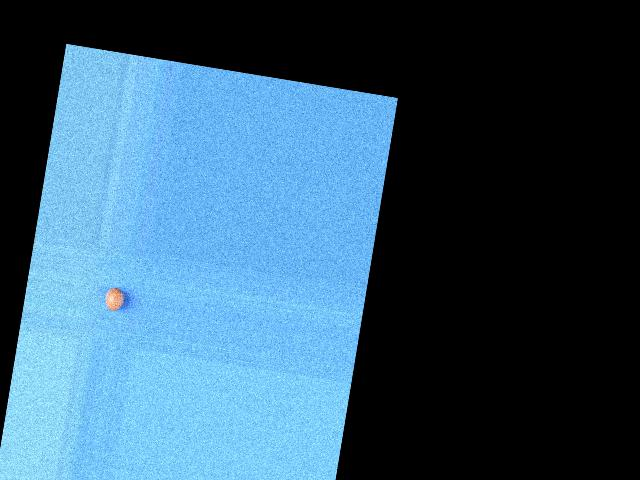egg: (103, 286, 125, 312)
